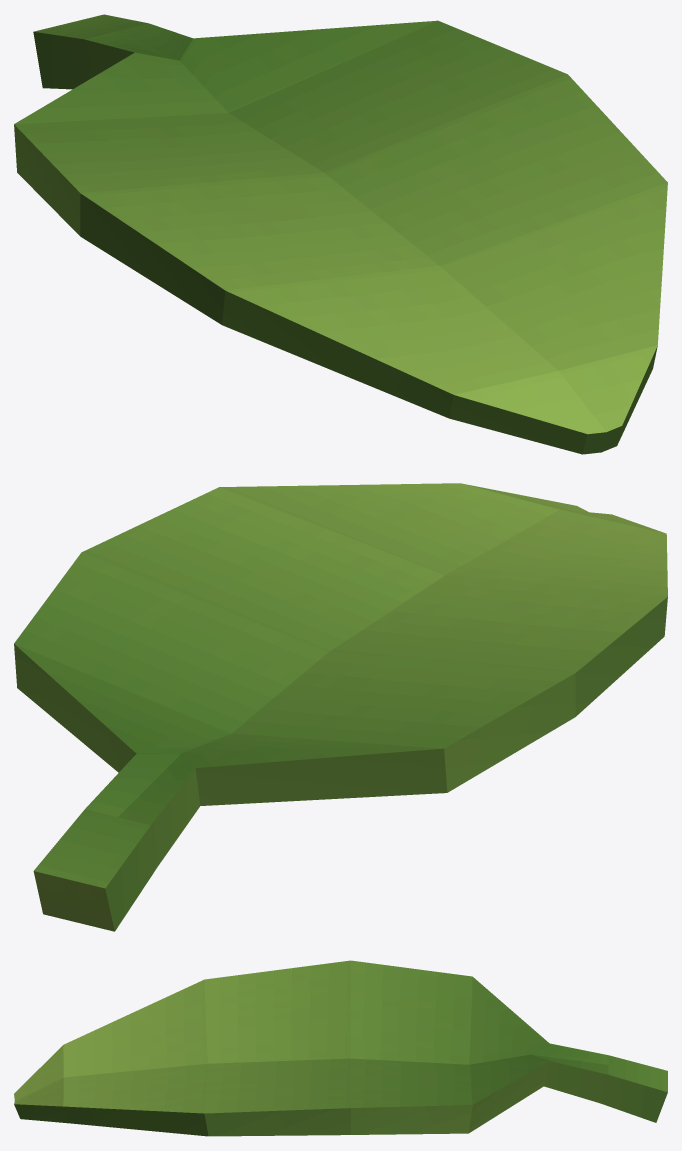
Rendered from leafA.fbx.
The picture shows the model from 3 angles, top to bottom: view 1: azimuth 30°, elevation 25°; view 2: azimuth 150°, elevation 25°; view 3: azimuth 270°, elevation 25°; orthographic projection. The views are drawn at different scales.
Parts seen in each view (by area): view 1: Cube; view 2: Cube; view 3: Cube.
Boxes of the visible parts, x1,y1,x2,y2 form: Cube: [14, 14, 667, 454]; Cube: [14, 483, 667, 931]; Cube: [14, 960, 667, 1136].
Bounding box in the file's own units: 2 × 0.4979 × 3.75.
